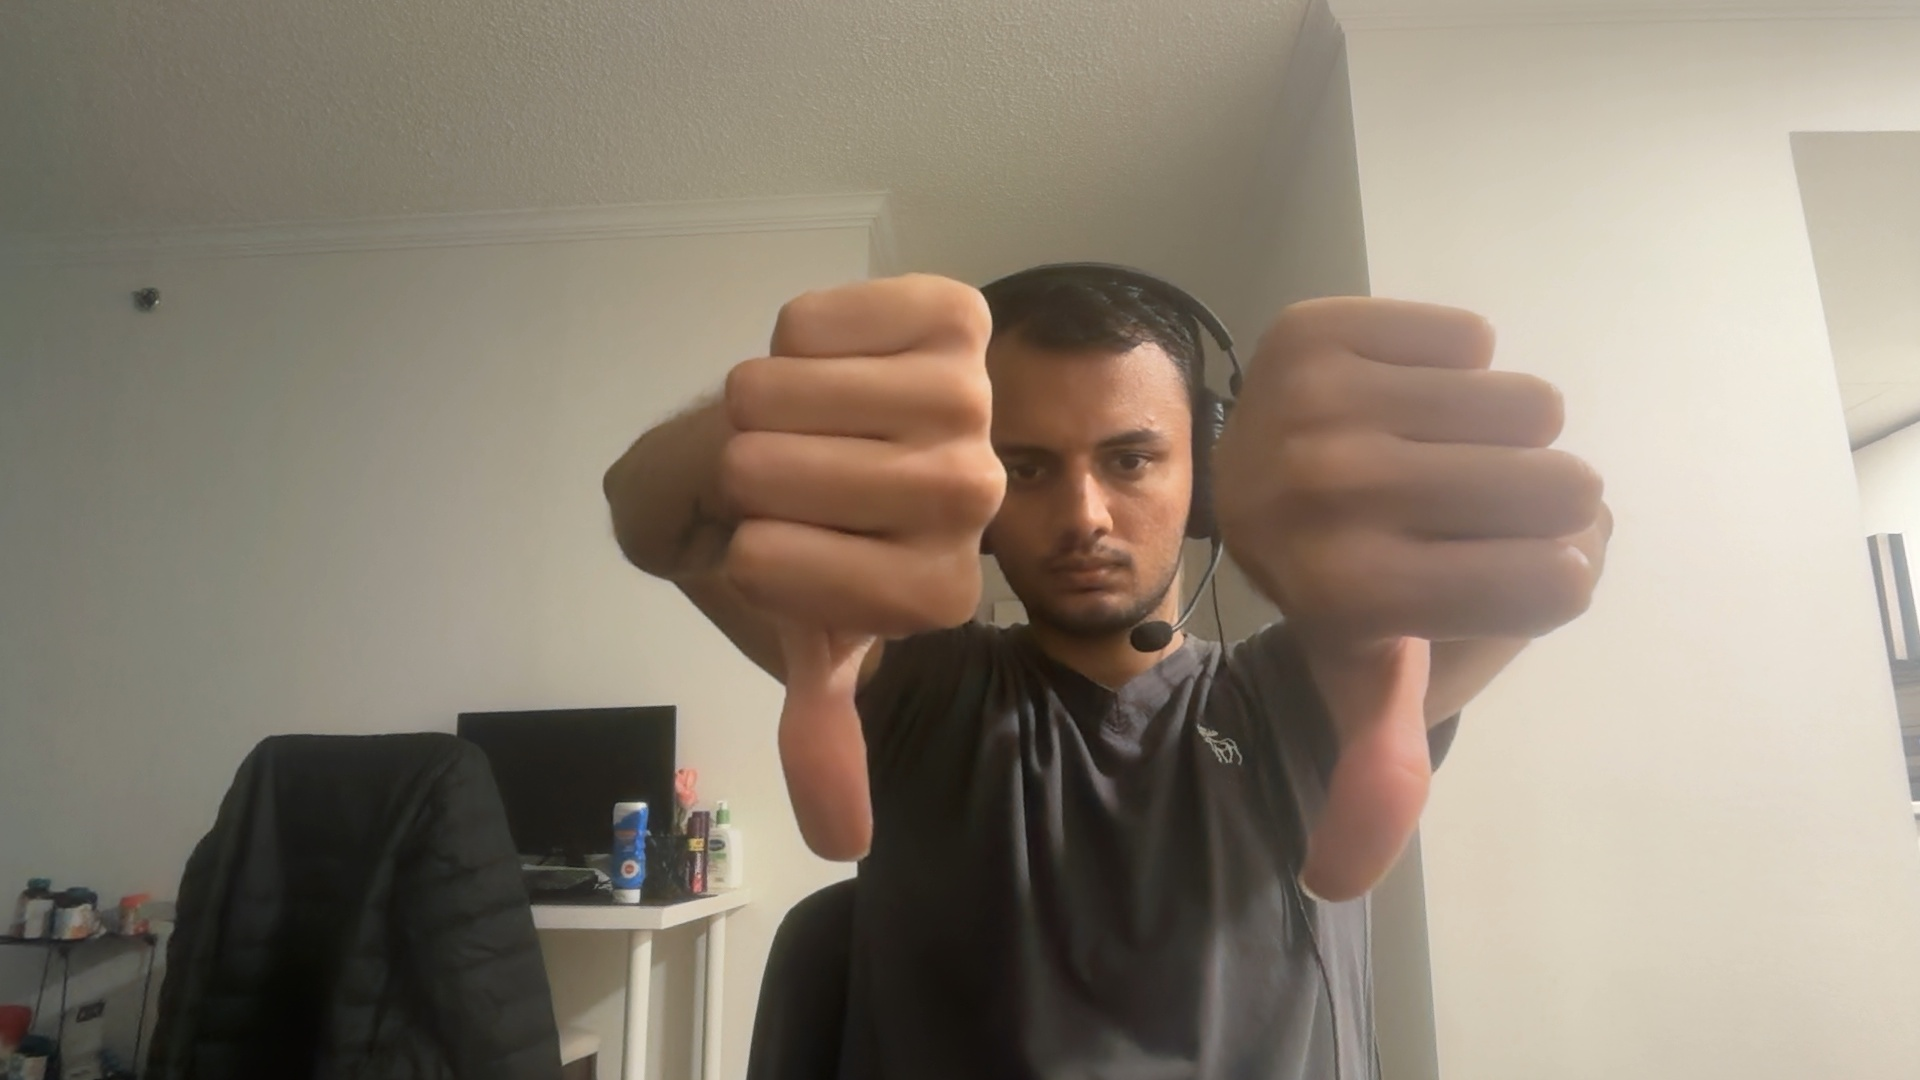thumbsdown: (1254, 294, 1601, 906)
